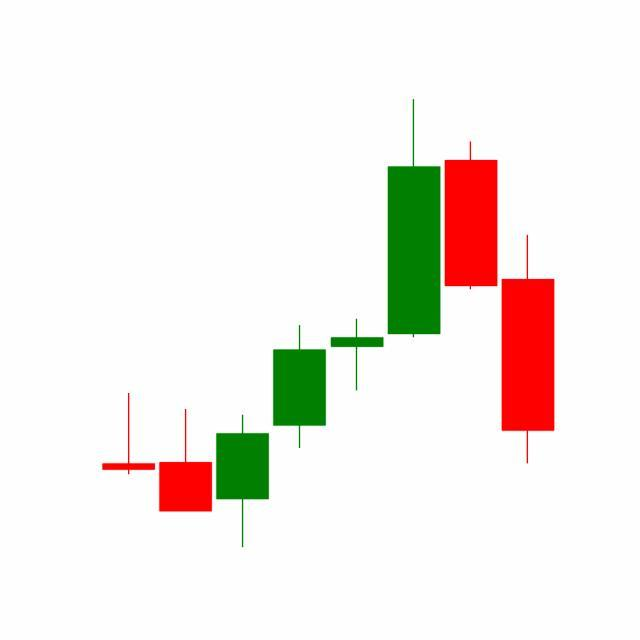Hikkake Pattern: (270, 100, 555, 470)
